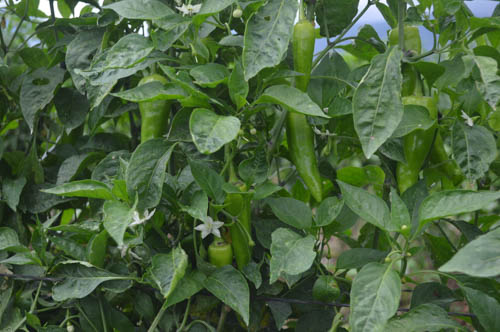ChiliPepper: (396, 104, 439, 204), (285, 109, 326, 207), (225, 183, 254, 263), (138, 76, 167, 146), (294, 20, 315, 92), (206, 240, 230, 271)
